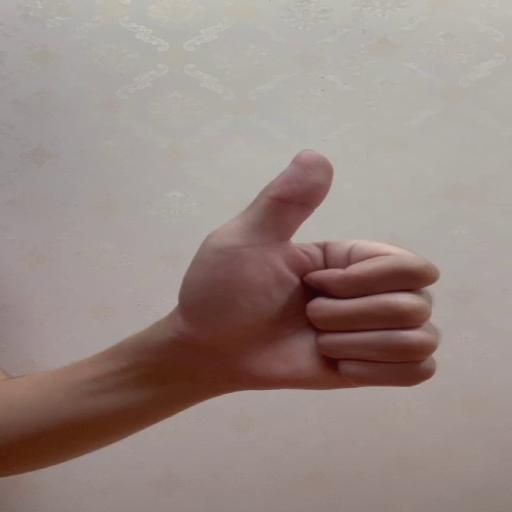thumbs_up: (178, 146, 444, 390)
